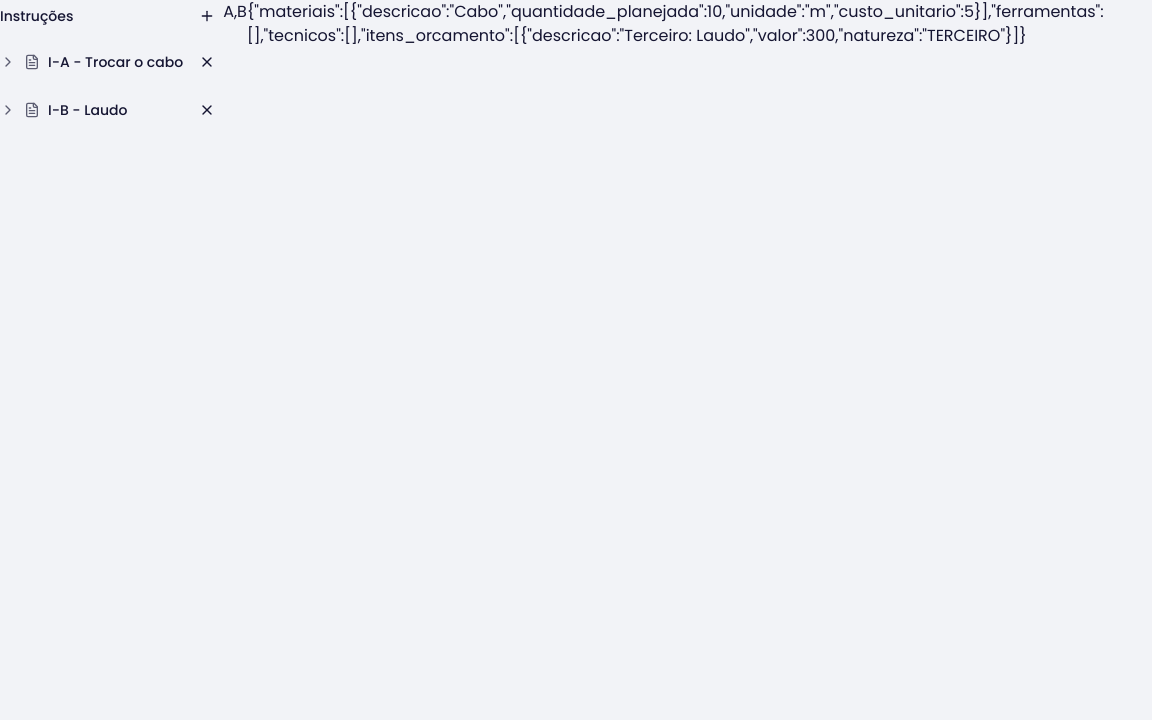
instruções da programação › acrescentar pelo catálogo soma os recursos da nova; a que já está na lista não é oferecida
What coordinates should you click on to do the following:
click the button named "Acrescentar instrução"
I would click on:
 (207, 16)
Its box is x1=191 y1=0 x2=223 y2=32.
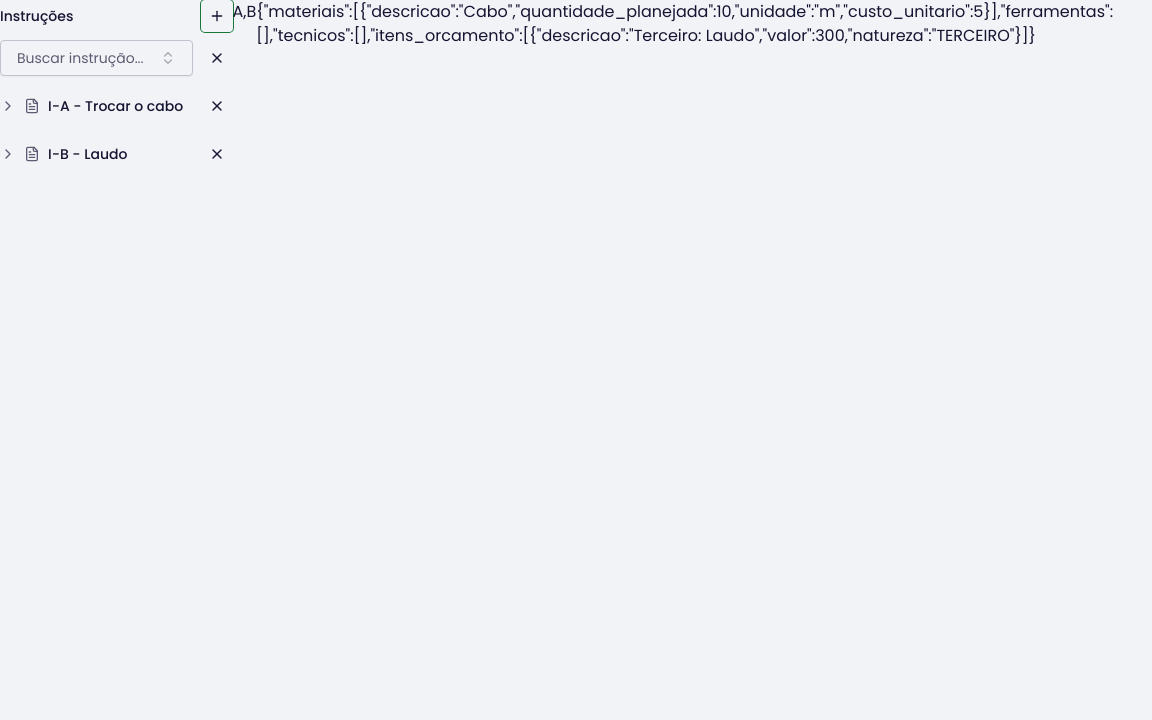
What coordinates should you click on to do the following:
click the dropdown
I would click on:
 (96, 58)
Its box is x1=0 y1=40 x2=192 y2=76.
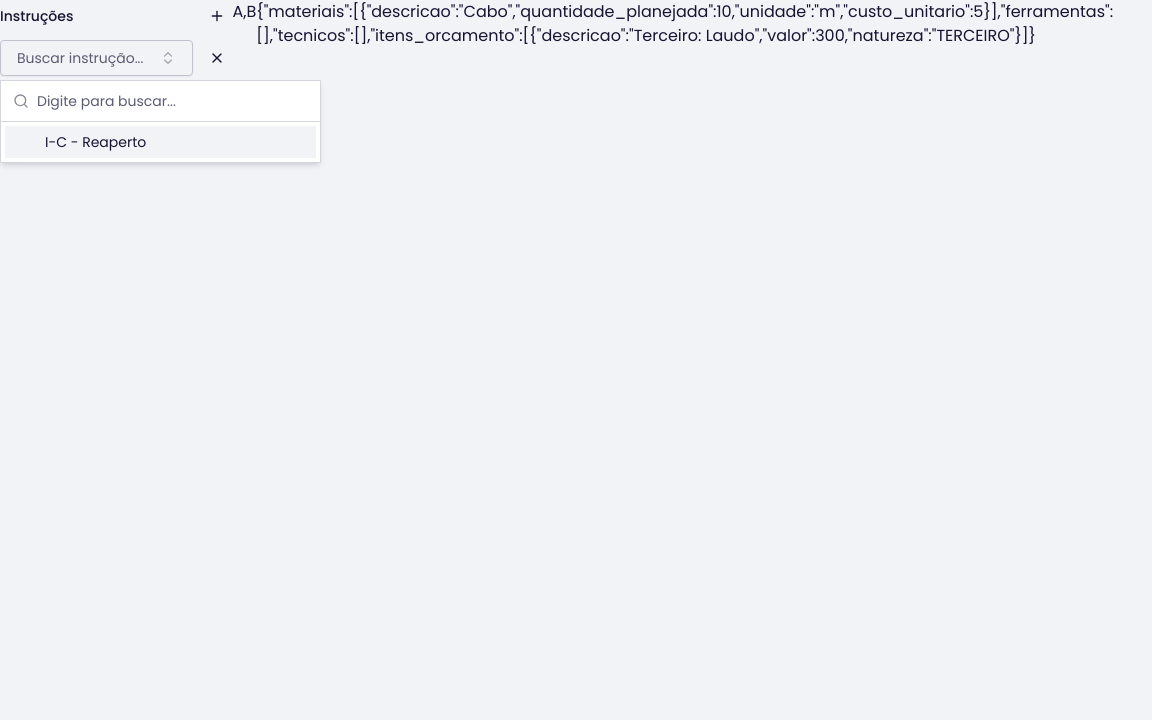
What coordinates should you click on to do the following:
click the option "I-C - Reaperto"
I would click on:
 (96, 142)
Its box is x1=5 y1=126 x2=316 y2=158.
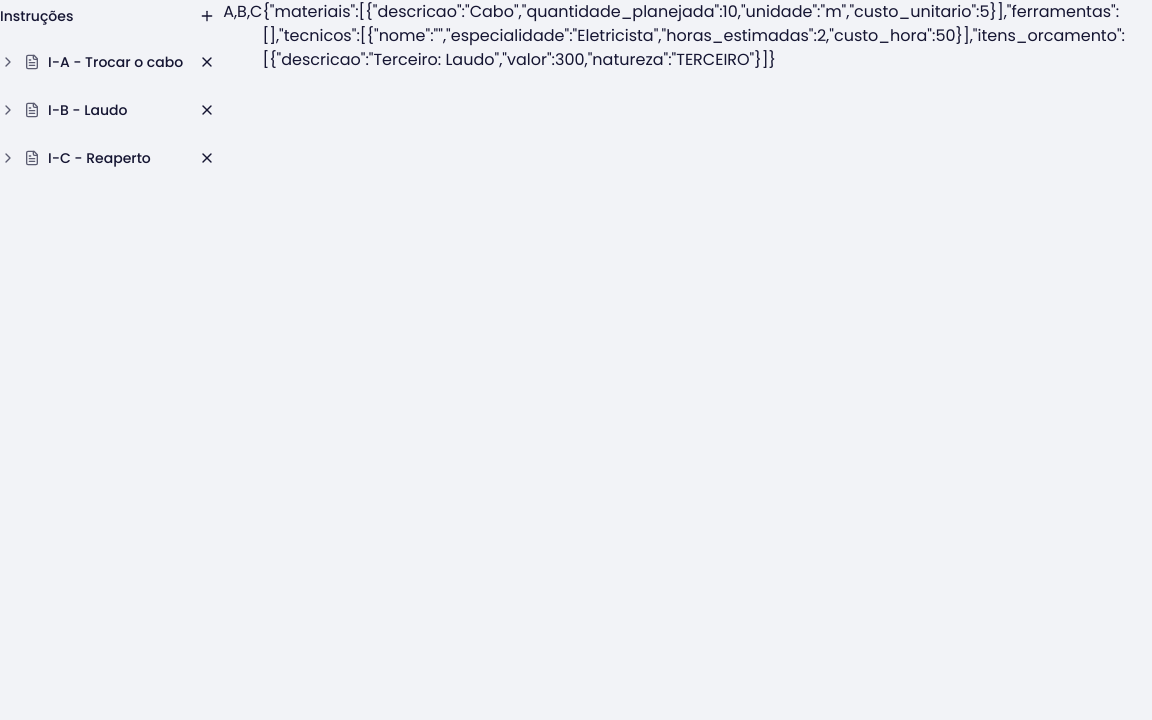
Result: the text with test id "valor" reads "A,B,C" at x1=223 y1=0 x2=262 y2=23
